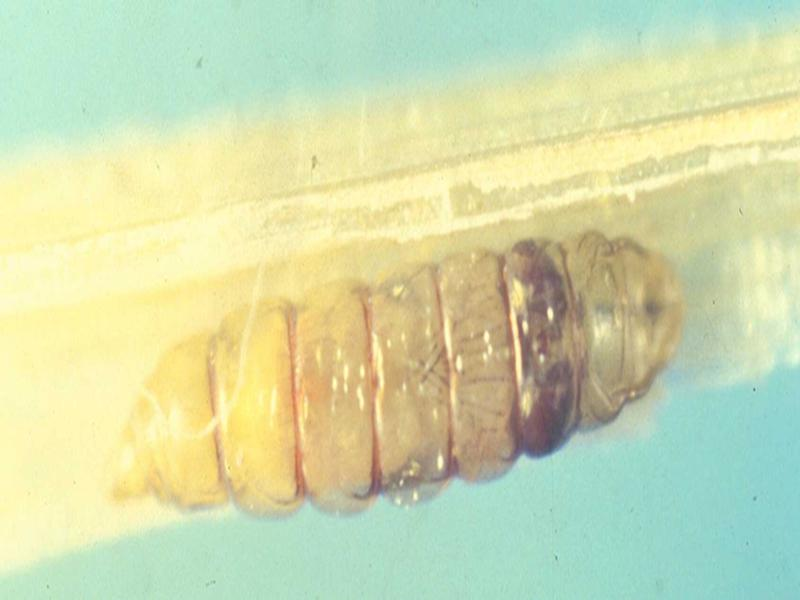Whorl_maggot: (99, 224, 686, 511)
